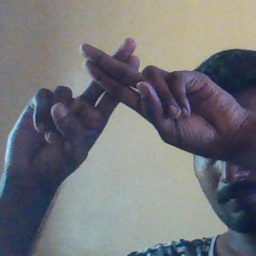F: (47, 29, 189, 150)
